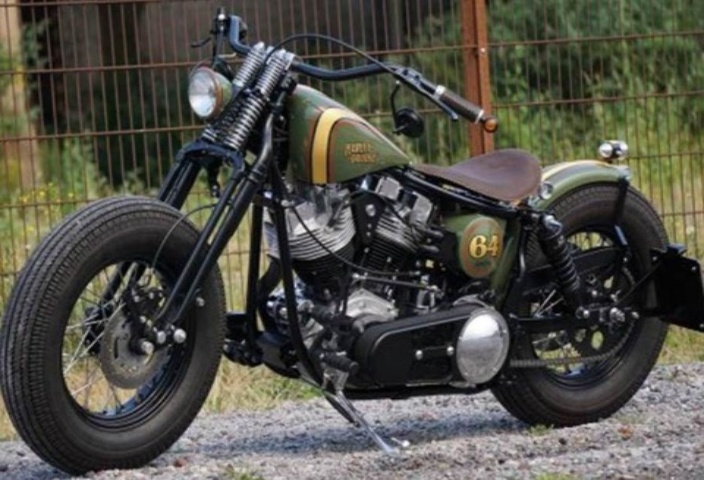motorcycle: (16, 4, 704, 472)
